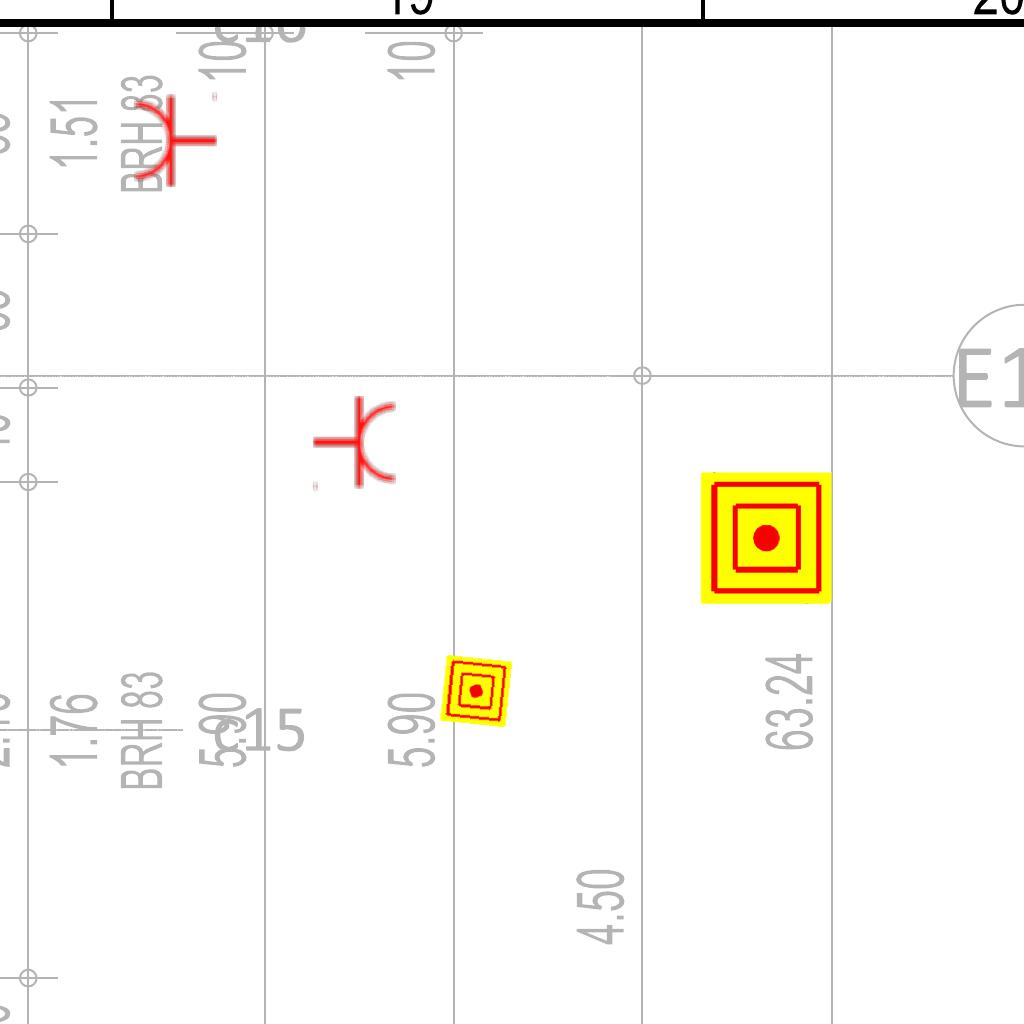NAM-Nichtautomatischer_Melder: (700, 472, 832, 604), (439, 654, 513, 728)
Schukosteckdose_einfach: (132, 89, 219, 189), (311, 394, 398, 494)
